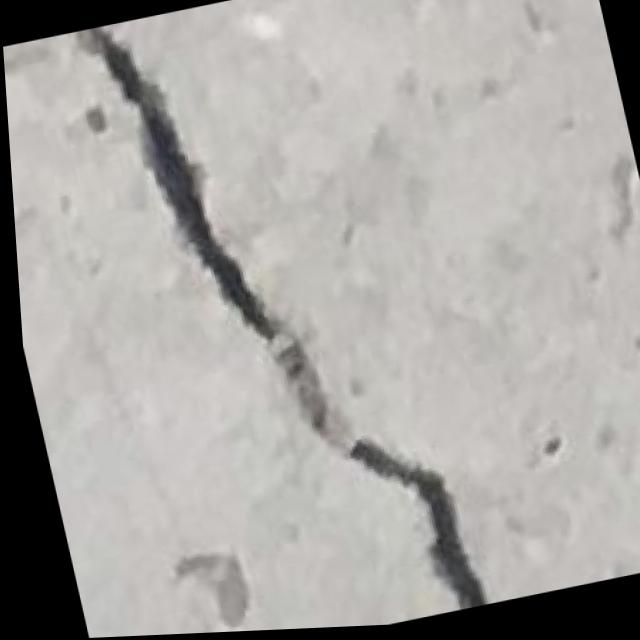Crack: (57, 0, 494, 638)
